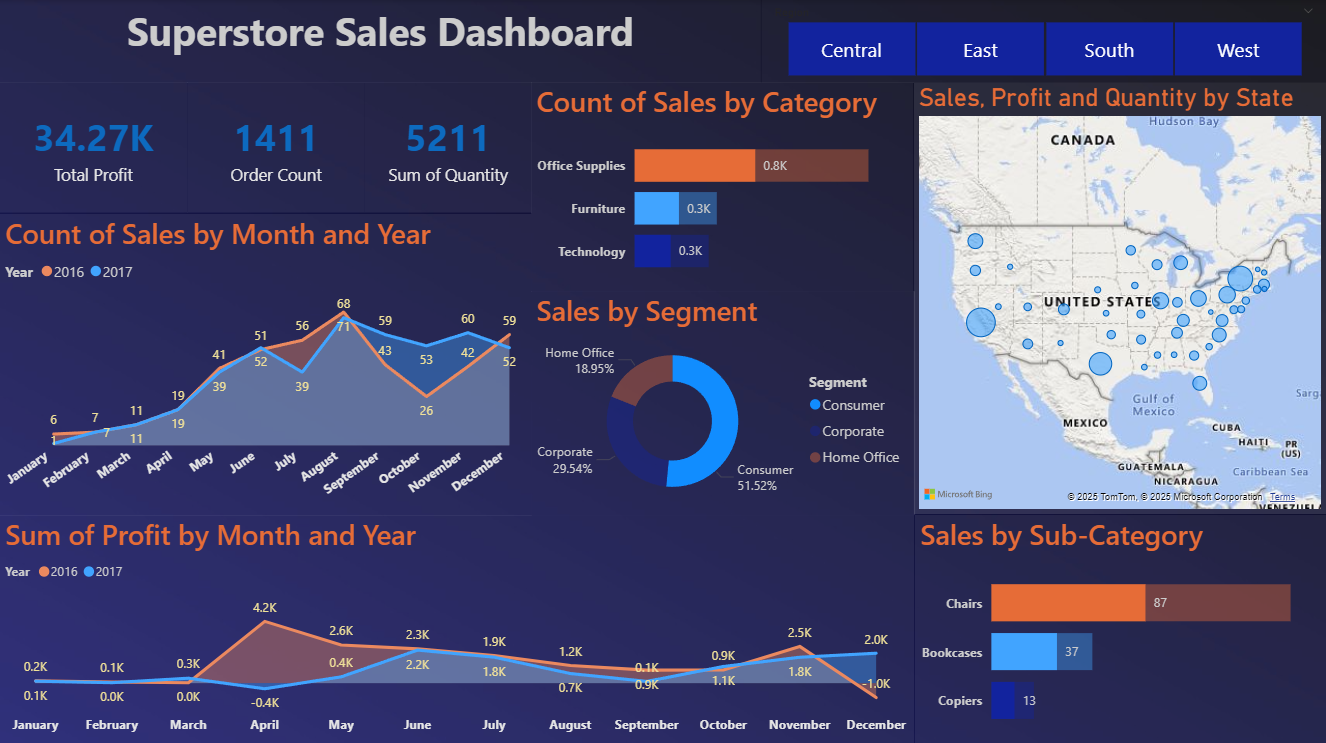

The dashboard page shown, as its layout file describes it:
{"tool":"powerbi","page":{"name":"Page 1","canvas":[1280,720],"ordinal":0},"visuals":[{"type":"clusteredBarChart","fields":{"Category":["Superstore.Category"],"Y":["CountNonNull(Superstore.Sales)"]},"box":[513.2,79.6,369.1,201.7],"z":0},{"type":"clusteredBarChart","title":"Sales by Sub-Category","fields":{"Y":["CountNonNull(Superstore.Sales)"],"Category":["Superstore.Sub-Category"]},"box":[882.9,497.1,397.1,222.9],"z":1000},{"type":"areaChart","fields":{"Category":["Superstore.Ship Date.Variation.Date Hierarchy.Month","Superstore.Ship Date.Variation.Date Hierarchy.Day"],"Y":["CountNonNull(Superstore.Sales)"],"Series":["Superstore.Order Date.Variation.Date Hierarchy.Year"]},"box":[0,205.7,512.9,291.4],"z":2000},{"type":"areaChart","fields":{"Category":["Superstore.Ship Date.Variation.Date Hierarchy.Month","Superstore.Ship Date.Variation.Date Hierarchy.Day"],"Series":["Superstore.Order Date.Variation.Date Hierarchy.Year"],"Y":["Sum(Superstore.Profit)"]},"box":[0,496.7,882.3,220.9],"z":3000},{"type":"map","title":"Sales, Profit and Quantity by State","fields":{"Category":["Superstore.State"],"Size":["CountNonNull(Superstore.Sales)"]},"box":[881.7,80,398.3,416.7],"z":4000},{"type":"donutChart","title":"Sales by Segment","fields":{"Category":["Superstore.Segment"],"Y":["CountNonNull(Superstore.Sales)"]},"box":[512.9,281.4,370,215.7],"z":5000},{"type":"slicer","title":"Region","fields":{"Values":["Superstore.Region"]},"box":[734.3,0,545.7,80],"z":6000},{"type":"textbox","box":[0,0,734.3,80],"z":7000},{"type":"card","fields":{"Values":["Superstore.Order Count"]},"box":[181.4,80,171.4,125.7],"z":8000},{"type":"card","fields":{"Values":["Superstore.Total Profit"]},"box":[0,80,180.8,125.8],"z":9000},{"type":"card","fields":{"Values":["Sum(Superstore.Quantity)"]},"box":[352.5,80,160.8,125.8],"z":10000}]}

Visuals, with their boxes in screenshot pixels (x1, y1, x2, y2), scaled from the page's 1280x720 canvas onto the 1326x743 screenshot:
clusteredBarChart - Superstore.Category x CountNonNull(Superstore.Sales): bbox=[532, 82, 914, 290]
"Sales by Sub-Category" clusteredBarChart: bbox=[915, 513, 1325, 742]
areaChart - Superstore.Ship Date.Variation.Date Hierarchy.Month x Superstore.Ship Date.Variation.Date Hierarchy.Day: bbox=[0, 212, 531, 513]
areaChart - Superstore.Ship Date.Variation.Date Hierarchy.Month x Superstore.Ship Date.Variation.Date Hierarchy.Day: bbox=[0, 513, 914, 741]
"Sales, Profit and Quantity by State" map: bbox=[913, 83, 1325, 513]
"Sales by Segment" donutChart: bbox=[531, 290, 915, 513]
"Region" slicer: bbox=[761, 0, 1325, 83]
textbox: bbox=[0, 0, 761, 83]
card - Superstore.Order Count: bbox=[188, 83, 365, 212]
card - Superstore.Total Profit: bbox=[0, 83, 187, 212]
card - Sum(Superstore.Quantity): bbox=[365, 83, 532, 212]
